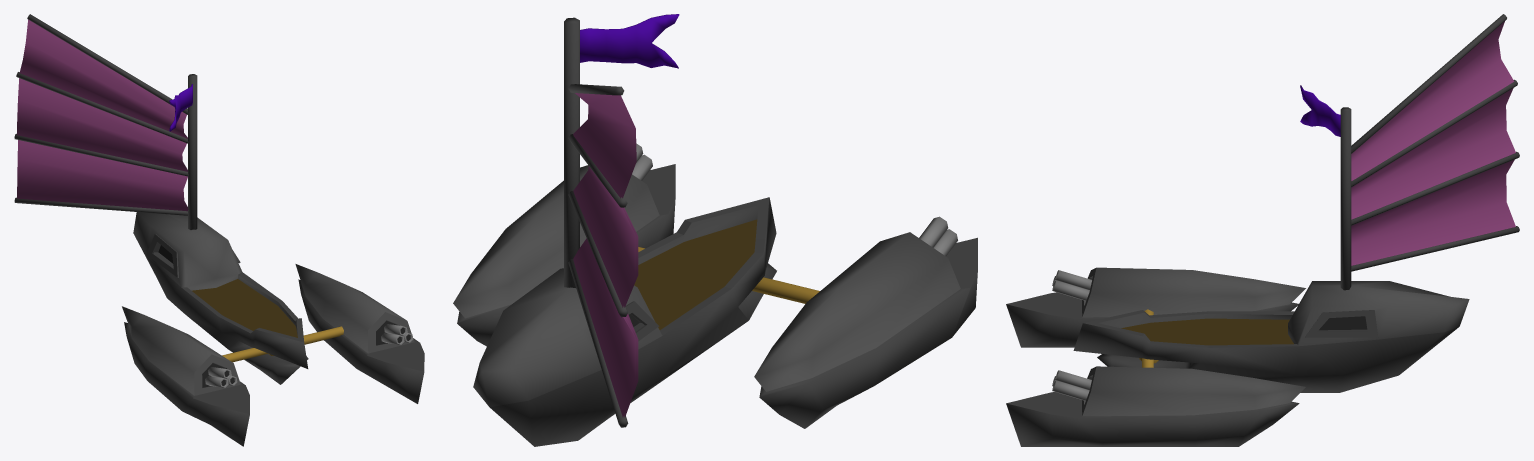
Rendered from Dark_Ship.fbx.
The picture shows the model from 3 angles, left to right: view 1: azimuth 30°, elevation 25°; view 2: azimuth 150°, elevation 25°; view 3: azimuth 270°, elevation 25°; orthographic projection. The views are drawn at different scales.
Parts seen in each view (by area): view 1: Nox_Vult_Gaff_Sail, Nox_Vult_Outrigger_Hull, Nox_Vult_Main_Hull, Nox_Vult_Mast, Nox_Vult_Cannon_Left, Nox_Vult_Cannon_Right, Nox_Vult_Flag; view 2: Nox_Vult_Outrigger_Hull, Nox_Vult_Main_Hull, Nox_Vult_Gaff_Sail, Nox_Vult_Mast, Nox_Vult_Flag, Nox_Vult_Cannon_Right; view 3: Nox_Vult_Outrigger_Hull, Nox_Vult_Main_Hull, Nox_Vult_Gaff_Sail, Nox_Vult_Mast, Nox_Vult_Flag, Nox_Vult_Cannon_Right, Nox_Vult_Cannon_Left.
Boxes of the visible parts, box(x1,y1,x2,y2) form: Nox_Vult_Gaff_Sail: box(17, 19, 188, 211); Nox_Vult_Outrigger_Hull: box(122, 264, 424, 446); Nox_Vult_Main_Hull: box(133, 212, 308, 384); Nox_Vult_Mast: box(14, 14, 197, 229); Nox_Vult_Cannon_Left: box(381, 324, 413, 344); Nox_Vult_Cannon_Right: box(205, 367, 237, 387); Nox_Vult_Flag: box(169, 84, 192, 131); Nox_Vult_Outrigger_Hull: box(453, 164, 977, 428); Nox_Vult_Main_Hull: box(473, 197, 776, 446); Nox_Vult_Gaff_Sail: box(573, 93, 638, 417); Nox_Vult_Mast: box(564, 17, 628, 427); Nox_Vult_Flag: box(580, 14, 679, 68); Nox_Vult_Cannon_Right: box(919, 216, 957, 256); Nox_Vult_Outrigger_Hull: box(1006, 267, 1305, 446); Nox_Vult_Main_Hull: box(1073, 281, 1469, 392); Nox_Vult_Gaff_Sail: box(1351, 21, 1515, 265); Nox_Vult_Mast: box(1340, 14, 1519, 290); Nox_Vult_Flag: box(1300, 85, 1340, 136); Nox_Vult_Cannon_Right: box(1052, 270, 1091, 300); Nox_Vult_Cannon_Left: box(1052, 370, 1091, 400).
Bounding box in the file's own units: 194 × 230 × 325.
